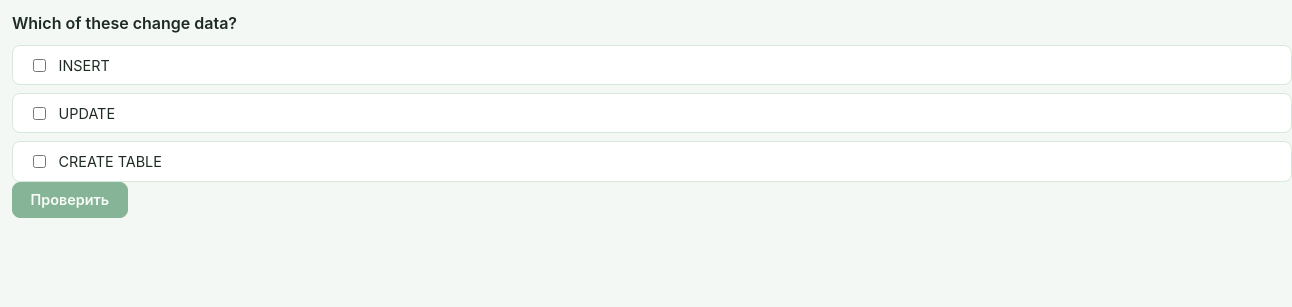
QuizView with a multi-select quiz › clears every badge the moment any checkbox changes, so a stale verdict never lingers
This screenshot has width=1292, height=307.
Click the checkbox labelled "INSERT" at (40, 65), box left=33, top=59, right=46, bottom=72
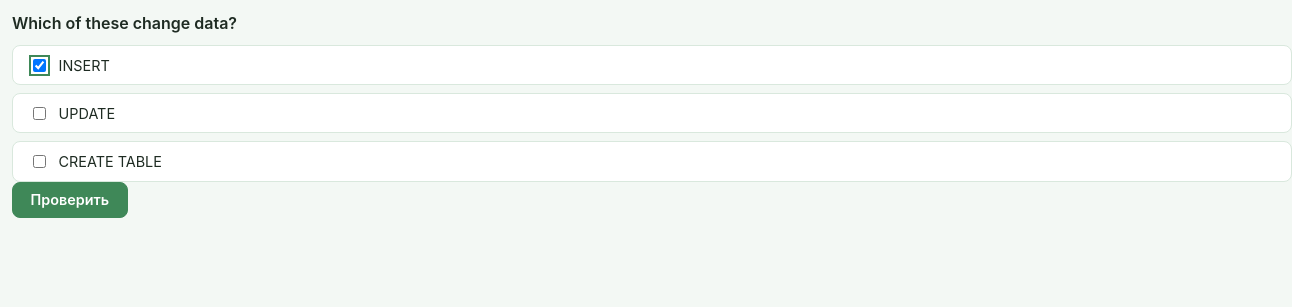
Click the button "Проверить" at (70, 200), box left=12, top=182, right=128, bottom=218
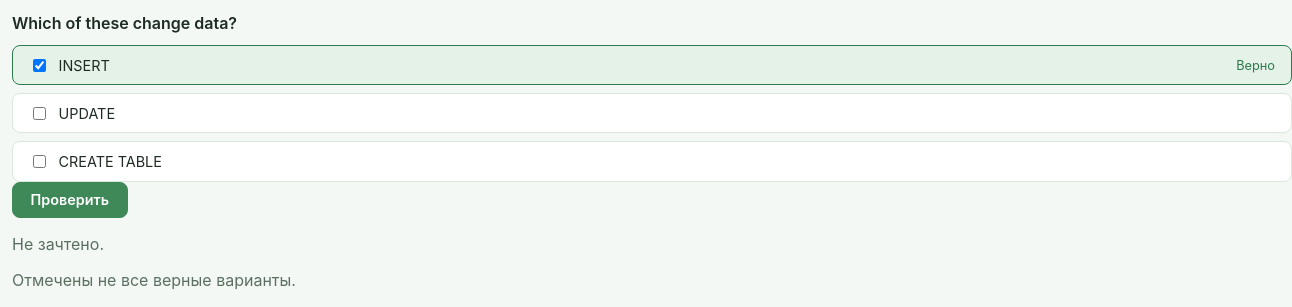
Result: the text "Отмечены не все верные варианты." is shown at left=12, top=270, right=296, bottom=290
Click the checkbox labelled "UPDATE" at (40, 113), box left=33, top=107, right=46, bottom=120
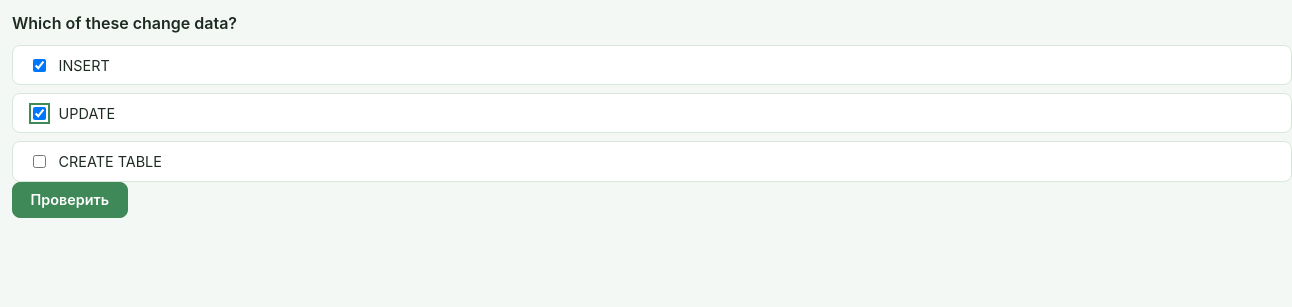
Result: the text "Отмечены не все верные варианты." is gone
Result: the text "Верно" is gone
